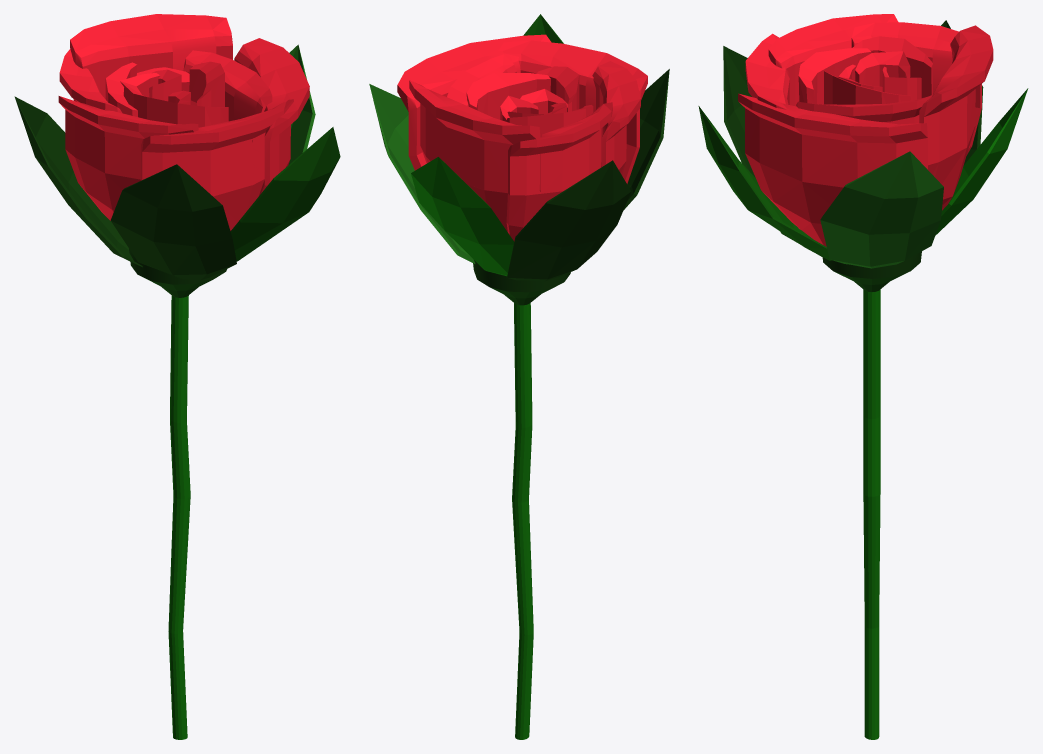
Rendered from jangmi1-4.fbx.
3 renders of one model, left to right at view 1: azimuth 30°, elevation 25°; view 2: azimuth 150°, elevation 25°; view 3: azimuth 270°, elevation 25°, orthographic. The views are drawn at different scales.
Visible parts, largest first — view 1: jangmi1-4; view 2: jangmi1-4; view 3: jangmi1-4.
Part boxes in pixels (x1=…): jangmi1-4: x1=14, y1=14, x2=340, y2=739; jangmi1-4: x1=369, y1=14, x2=669, y2=739; jangmi1-4: x1=698, y1=14, x2=1028, y2=739.
Size of the model in its own units: 0.1813 by 0.4395 by 0.1926.
